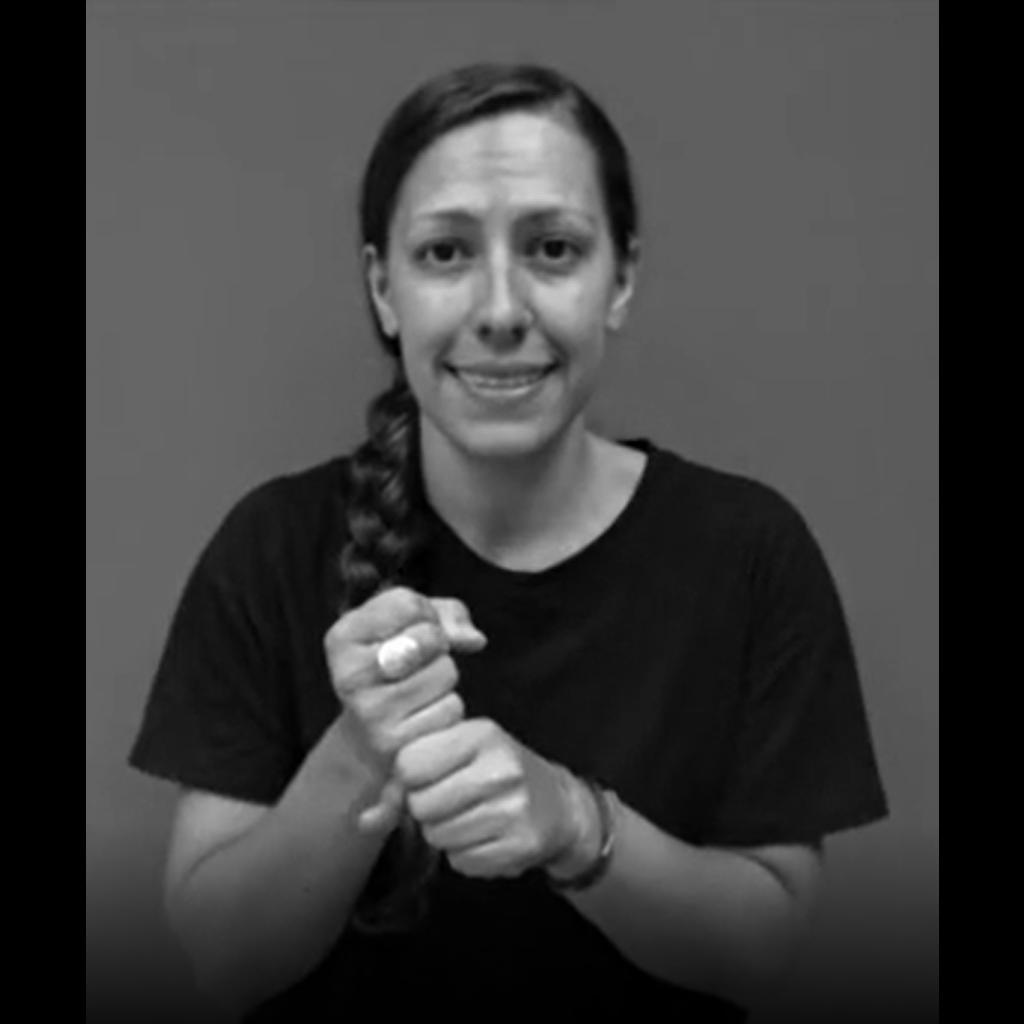get: (324, 587, 560, 879)
